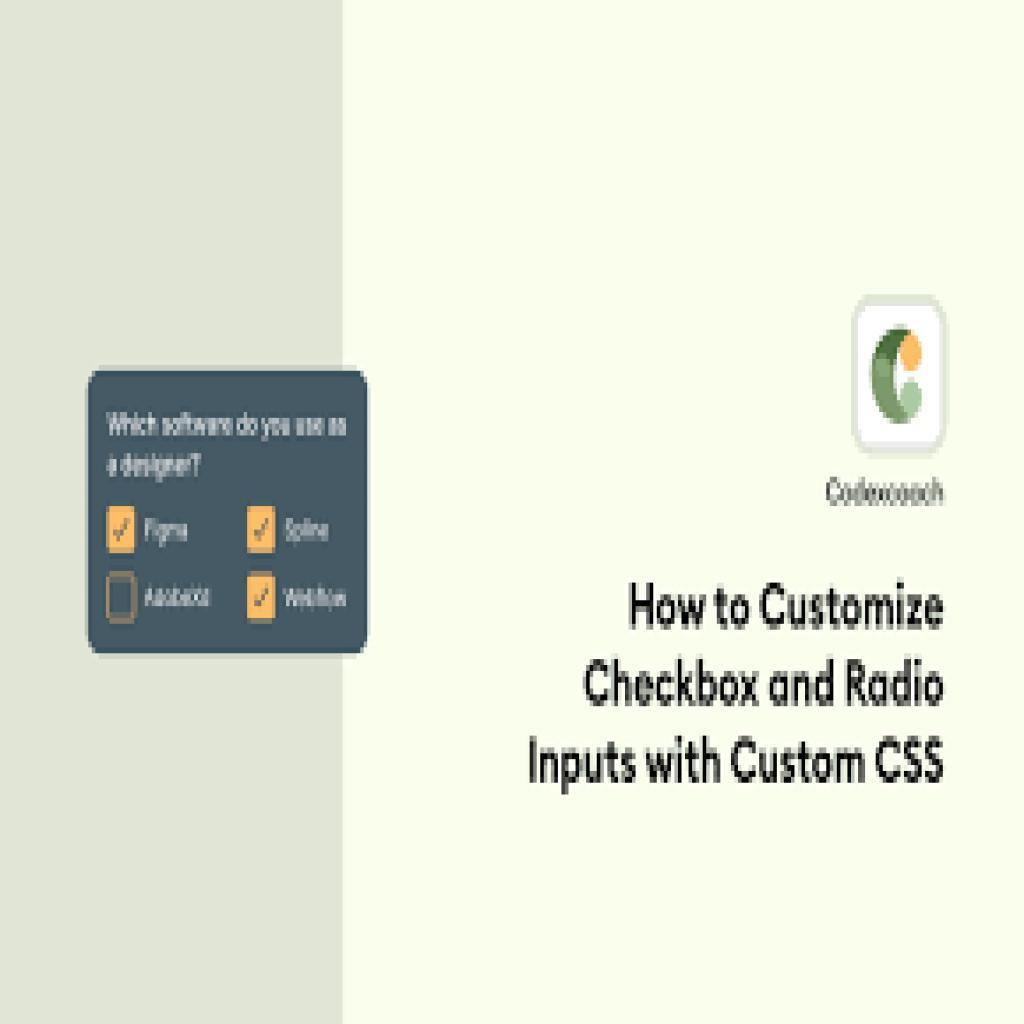checkbox: (106, 572, 139, 626), (103, 507, 140, 554), (247, 570, 277, 625), (246, 505, 277, 555)
label: (143, 583, 214, 610), (283, 585, 348, 614), (143, 514, 191, 551), (285, 516, 334, 546)
